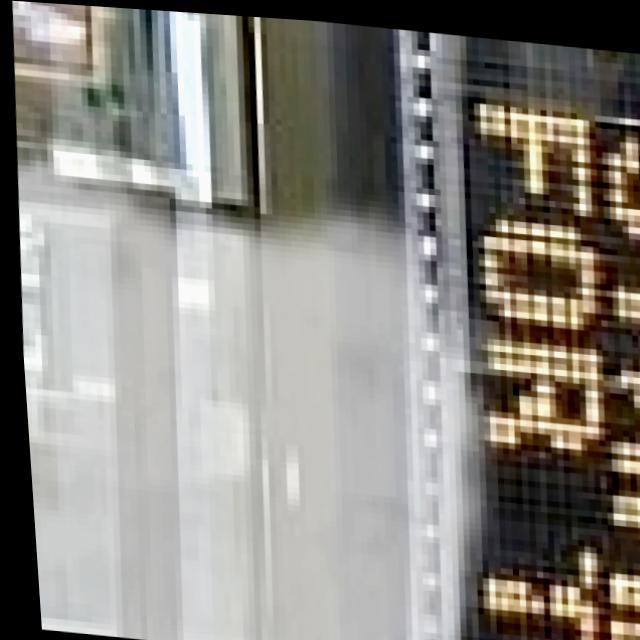smoke: (7, 140, 517, 640)
